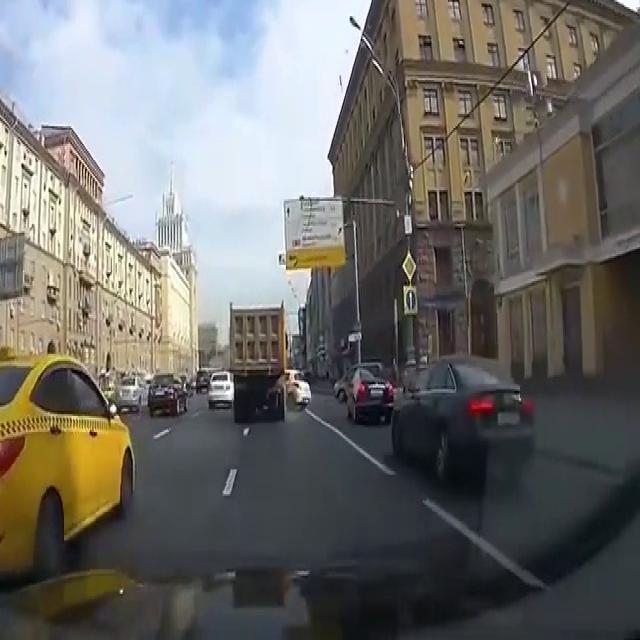severe: (225, 290, 312, 433)
